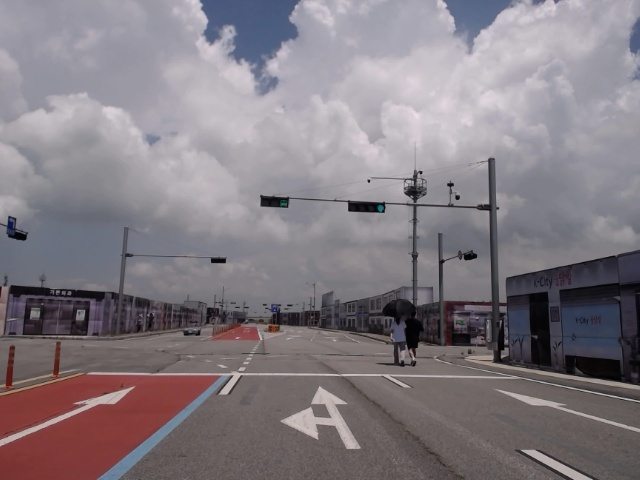straight_green_4: (349, 200, 385, 213)
